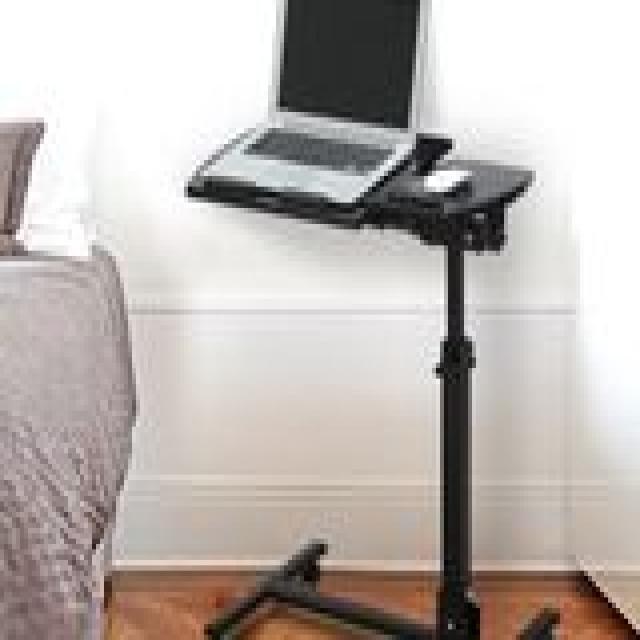others: (184, 5, 564, 640)
